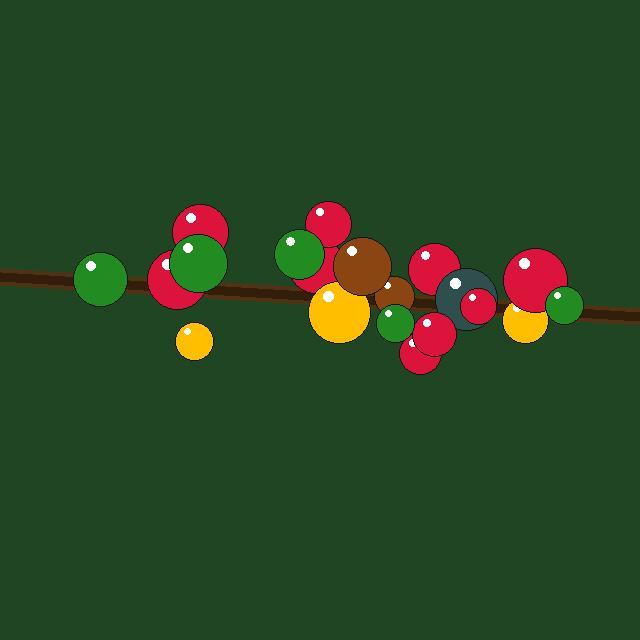Dry_Damaged: (435, 268, 497, 330)
Overripe: (333, 237, 391, 295), (374, 276, 414, 316)
Ripe: (503, 248, 567, 312), (147, 249, 207, 309), (288, 237, 344, 293), (172, 204, 228, 260), (408, 243, 460, 295), (305, 201, 351, 247), (412, 312, 456, 356), (399, 332, 441, 374), (460, 288, 496, 324)
Ripening: (308, 281, 370, 343), (502, 297, 548, 343), (175, 322, 213, 360)
Unripe: (169, 234, 227, 292), (73, 252, 127, 306), (274, 229, 324, 279), (376, 304, 414, 342), (545, 286, 583, 324)
